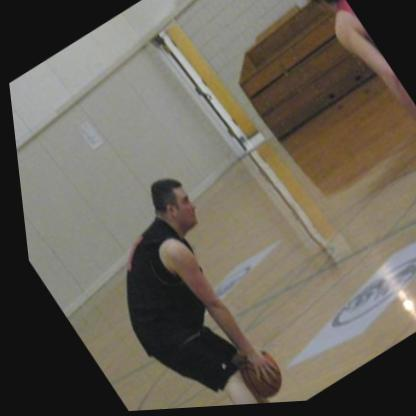basketball: (218, 340, 282, 407)
